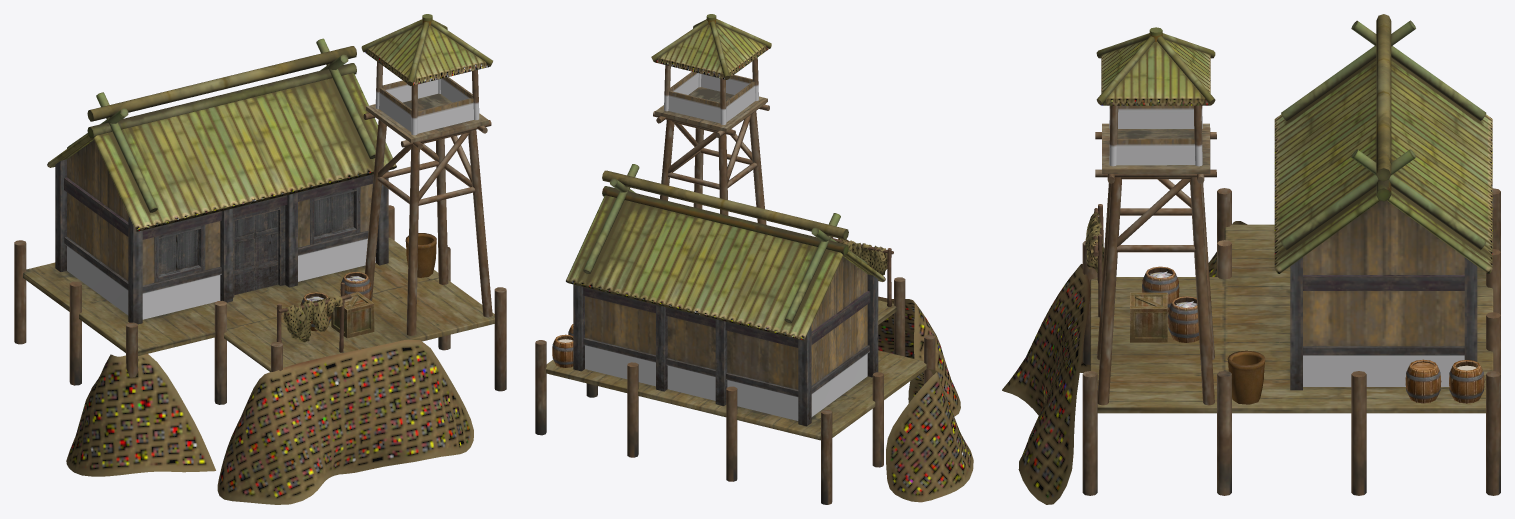
File: 50-dock.glb
3 renders of one model, left to right at view 1: azimuth 30°, elevation 25°; view 2: azimuth 150°, elevation 25°; view 3: azimuth 270°, elevation 25°, orthographic. The views are drawn at different scales.
Bounding box in the file's own units: 6.96 × 7.51 × 6.85.
7 materials, 6 textured.
